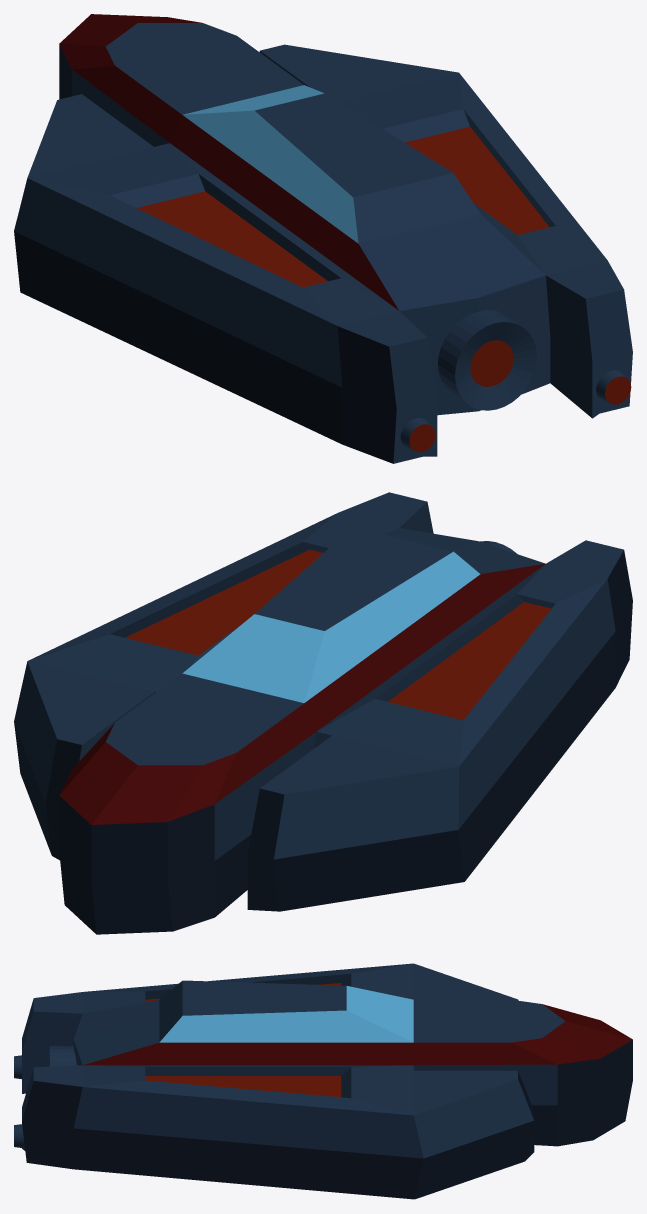
File: ship1.fbx
3 views of the same model, one above another, from view 1: azimuth 30°, elevation 25°; view 2: azimuth 150°, elevation 25°; view 3: azimuth 270°, elevation 25° (orthographic). The views are drawn at different scales.
Visible parts, largest first — view 1: Cube; view 2: Cube; view 3: Cube.
Boxes of the visible parts, bbox=[...] form: Cube: bbox=[14, 14, 632, 463]; Cube: bbox=[14, 492, 632, 934]; Cube: bbox=[14, 963, 632, 1199].
Size of the model in its own units: 8.2 by 3.01 by 13.71.
